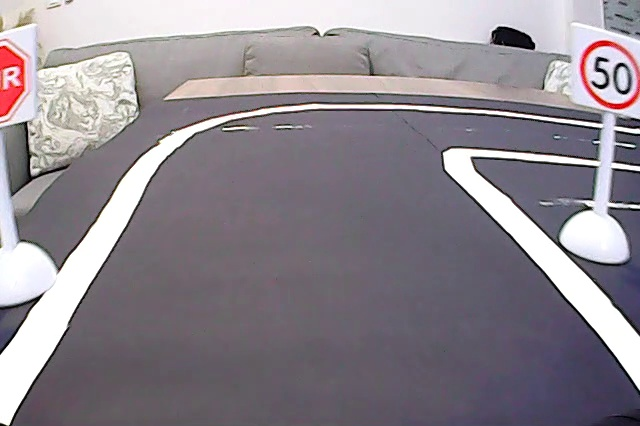speed limit 50: (577, 31, 640, 110)
